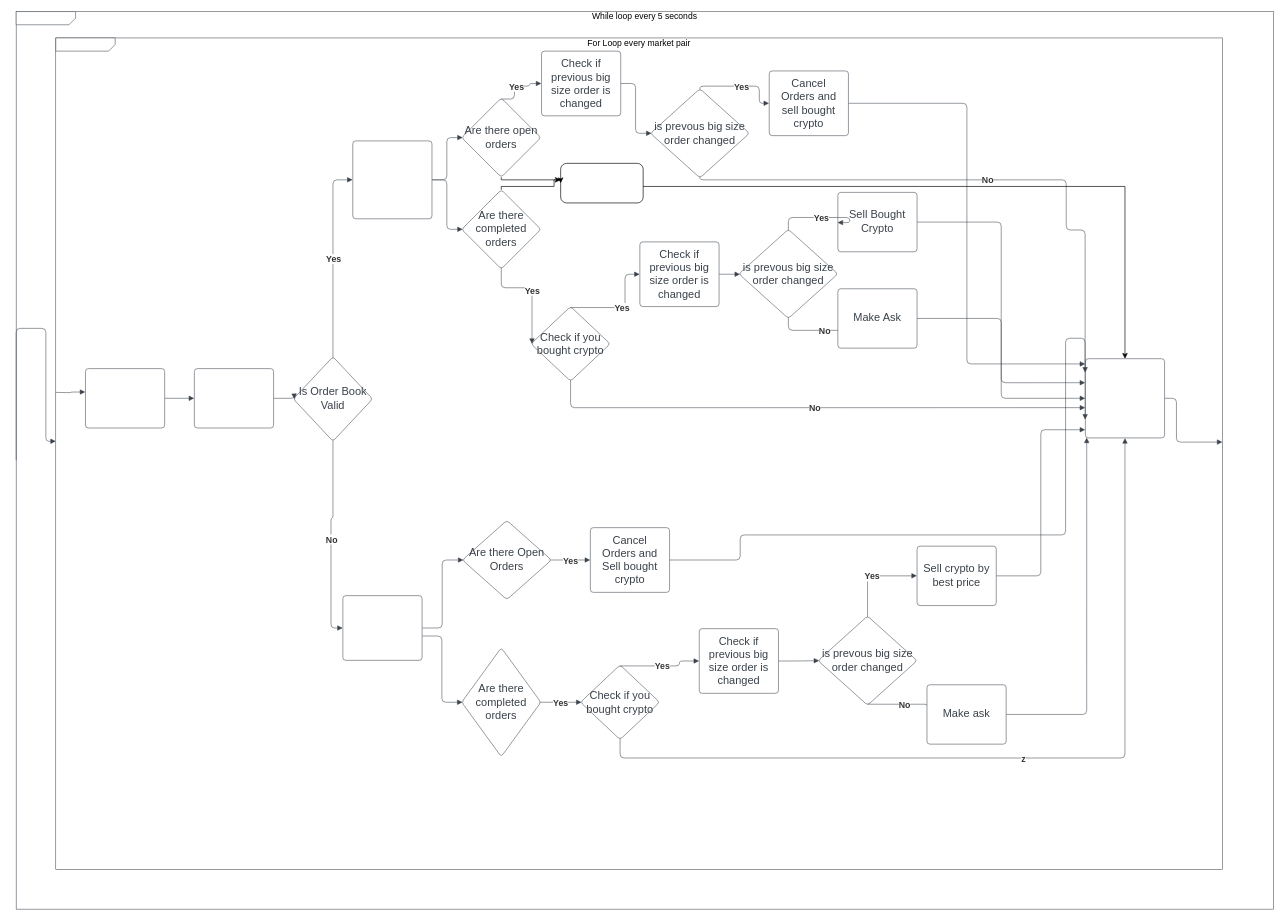
Some shapes in this 1285 by 921 pixel diagram are drawn without their labels. Each missing label, with the centre of its shape:
Check for Open Orders and Completed Orders: the point at 392,179
Check for Open Orders or completed orders: the point at 382,627
Check Order Book Validation: the point at 234,398
Finish: the point at 1125,398
Get OrderBook: the point at 125,398
place an order: the point at 601,183
